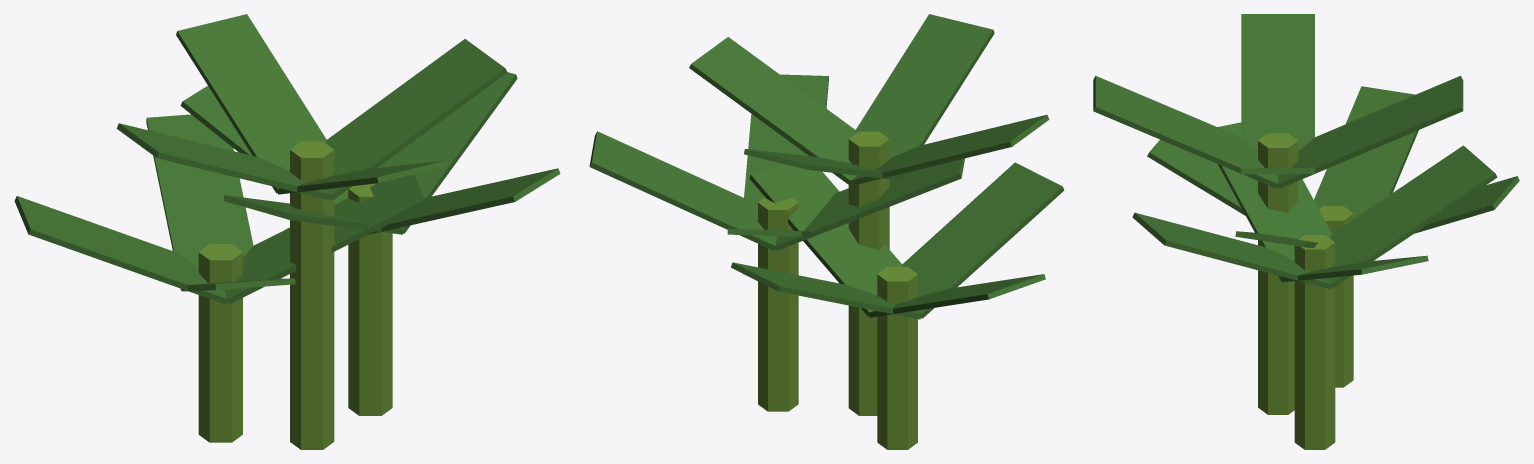
Rendered from cay-chuoi.glb.
3 views of the same model, side by side, from view 1: azimuth 30°, elevation 25°; view 2: azimuth 150°, elevation 25°; view 3: azimuth 270°, elevation 25° (orthographic). The views are drawn at different scales.
Visible parts, largest first — view 1: cay-chuoi; view 2: cay-chuoi; view 3: cay-chuoi.
Part boxes in pixels (bbox=[...]): cay-chuoi: bbox=[14, 14, 560, 449]; cay-chuoi: bbox=[589, 14, 1064, 449]; cay-chuoi: bbox=[1093, 14, 1519, 449].
Bounding box in the file's own units: 2.8 × 1.9 × 2.32.
